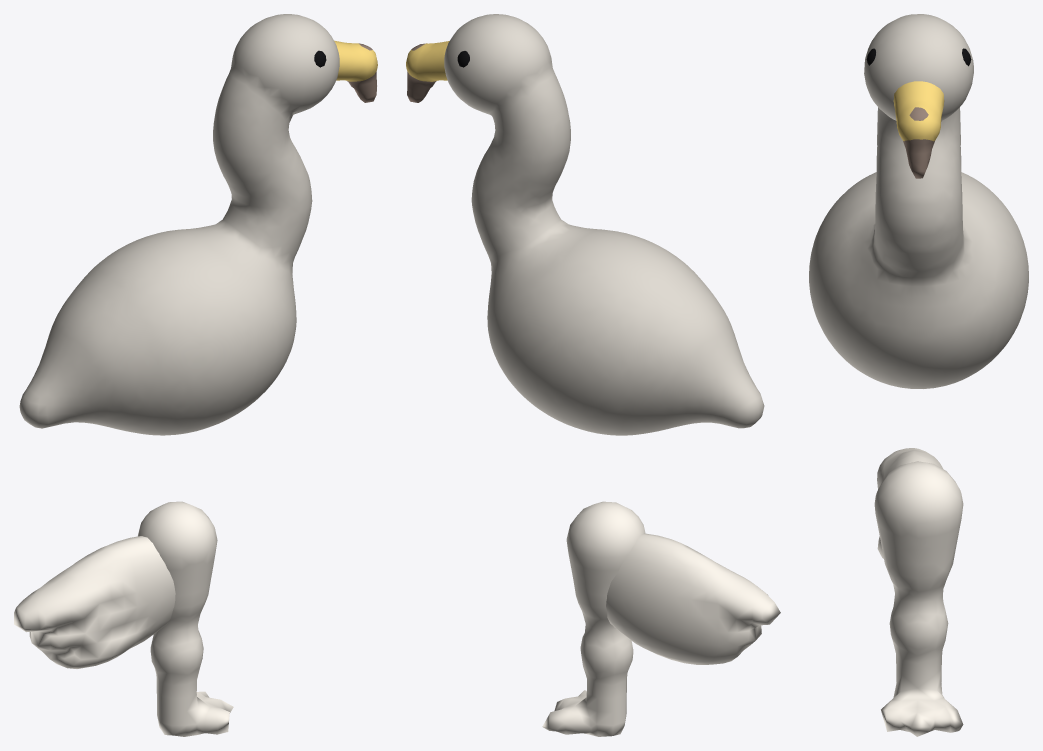
Rendered from flamingo_baby.glb.
3 views of the same model, side by side, from view 1: azimuth 30°, elevation 25°; view 2: azimuth 150°, elevation 25°; view 3: azimuth 270°, elevation 25° (orthographic). The views are drawn at different scales.
Visible parts, largest first — view 1: body, wing, leg, beak; view 2: body, wing, leg, beak; view 3: body, leg, beak, wing.
Boxes of the visible parts, <box> form: body: <box>19,14,339,435</box>; wing: <box>14,536,175,668</box>; leg: <box>138,501,233,736</box>; beak: <box>334,40,377,102</box>; body: <box>444,14,764,435</box>; wing: <box>606,533,780,664</box>; leg: <box>542,501,645,736</box>; beak: <box>406,41,449,102</box>; body: <box>809,14,1028,388</box>; leg: <box>874,461,963,736</box>; beak: <box>893,81,944,178</box>; wing: <box>877,448,942,558</box>.
Bounding box in the file's own units: 1.66 × 3.02 × 0.7989.
